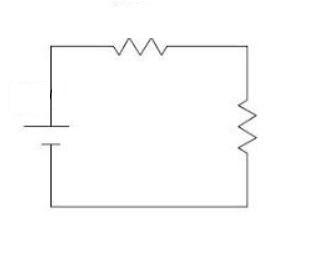resistor: (97, 25, 181, 64), (232, 85, 262, 168)
